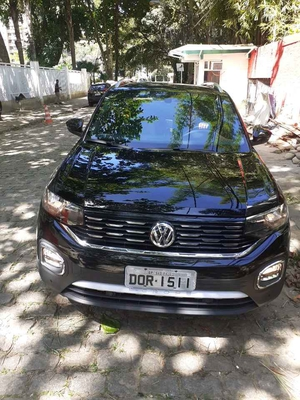Frontal Veiculo: (36, 86, 292, 317)
